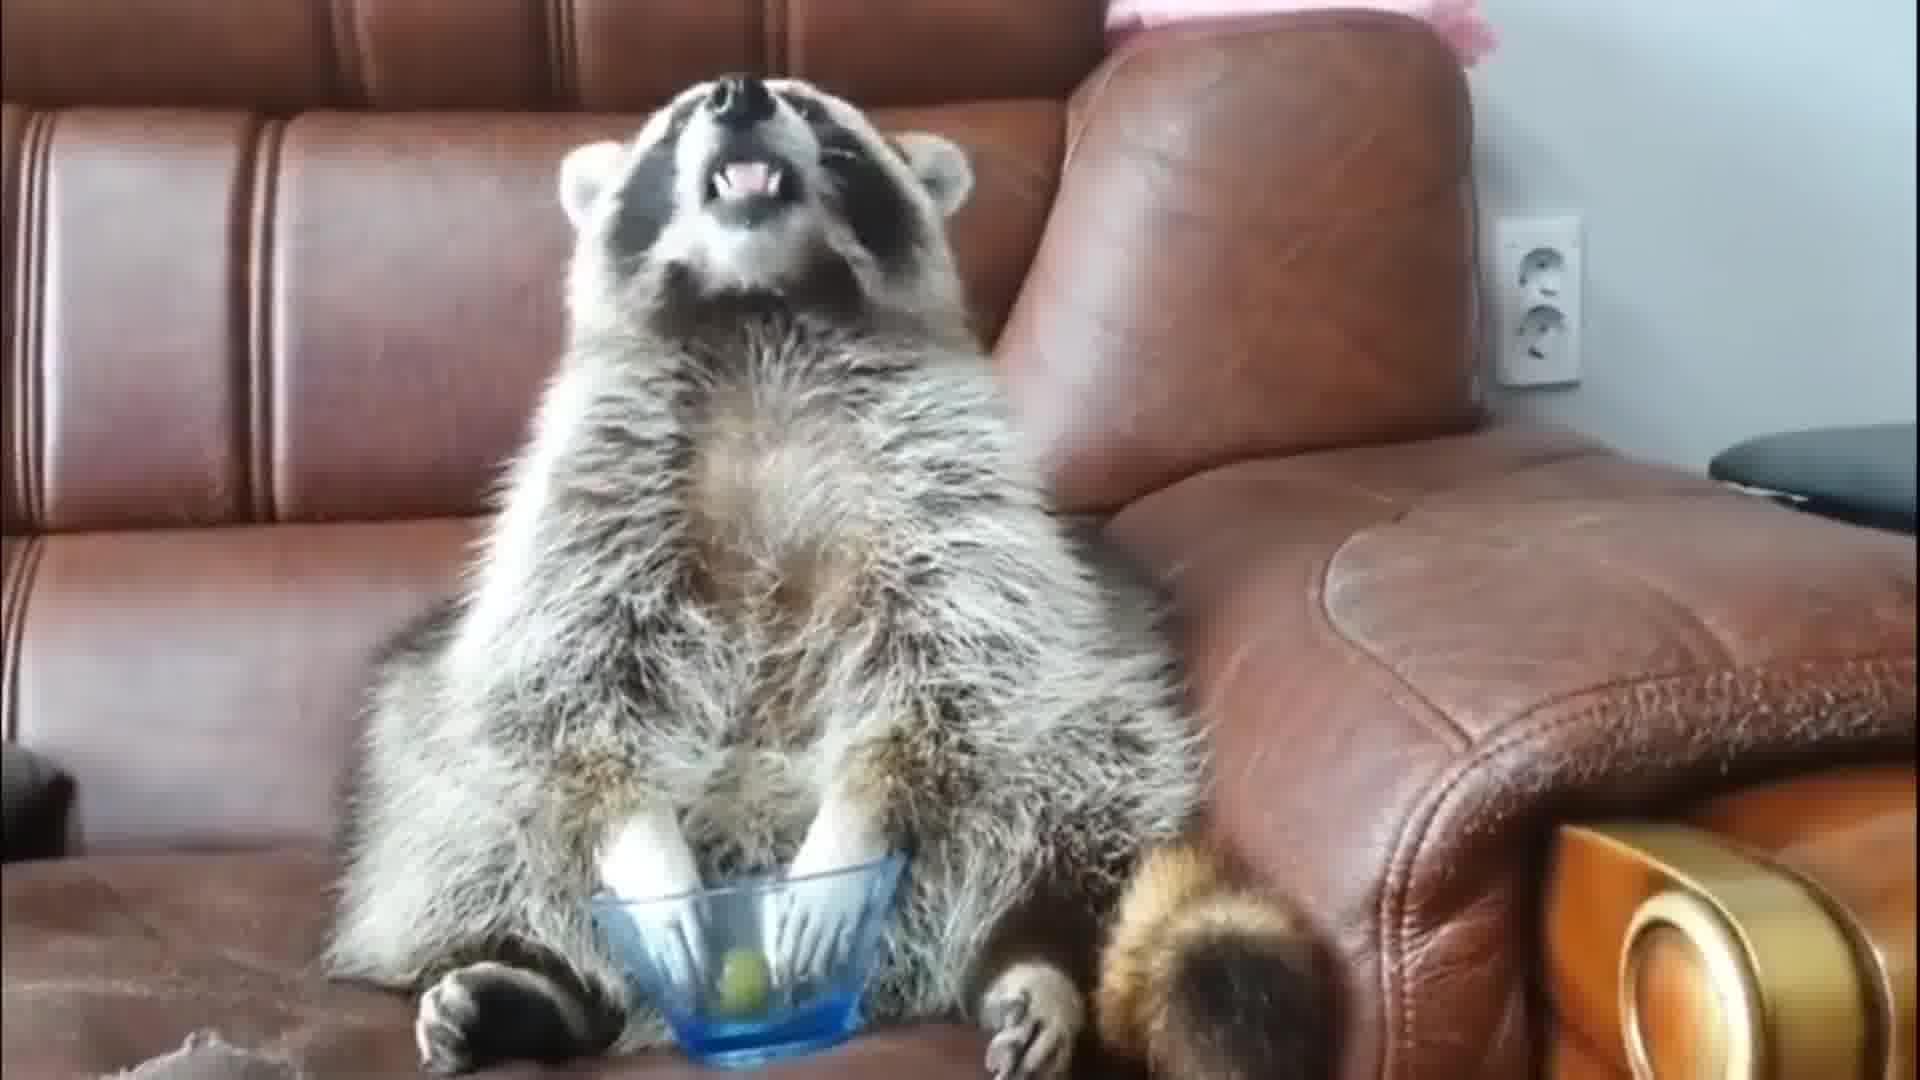raccoon: (323, 57, 1358, 1078)
